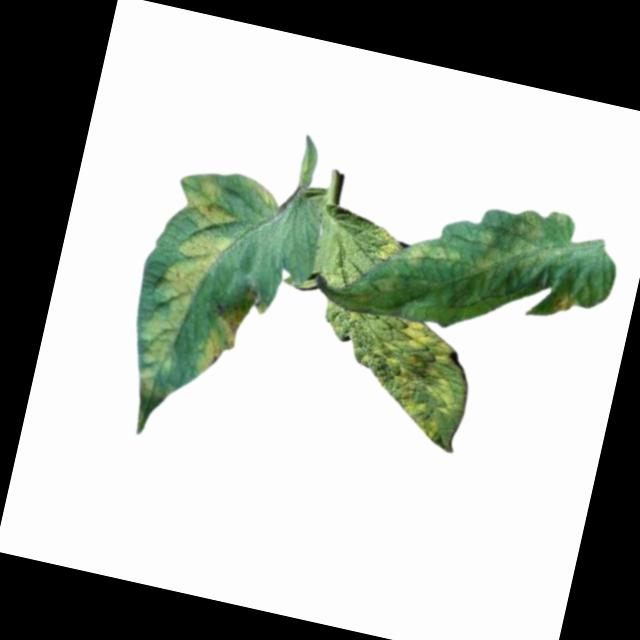Leaf_Mold: (122, 164, 248, 442), (299, 300, 481, 450), (466, 195, 570, 293), (192, 275, 270, 386), (404, 232, 460, 281), (368, 223, 408, 266), (548, 291, 577, 319)
